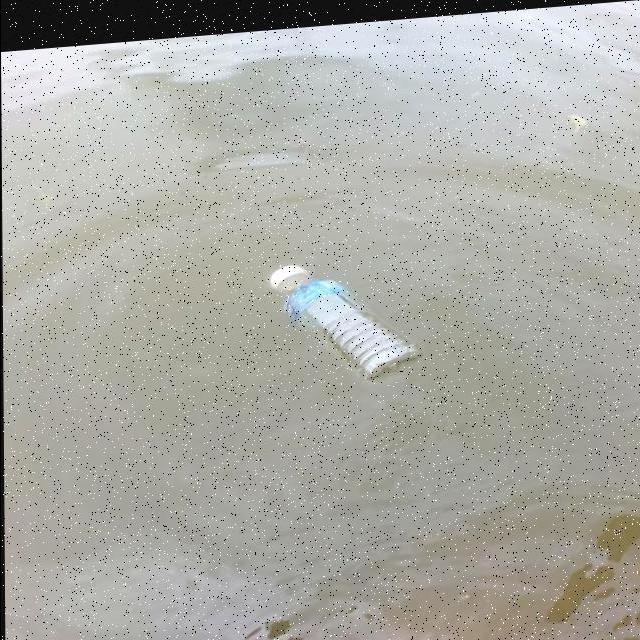Bottle: (262, 255, 428, 389)
